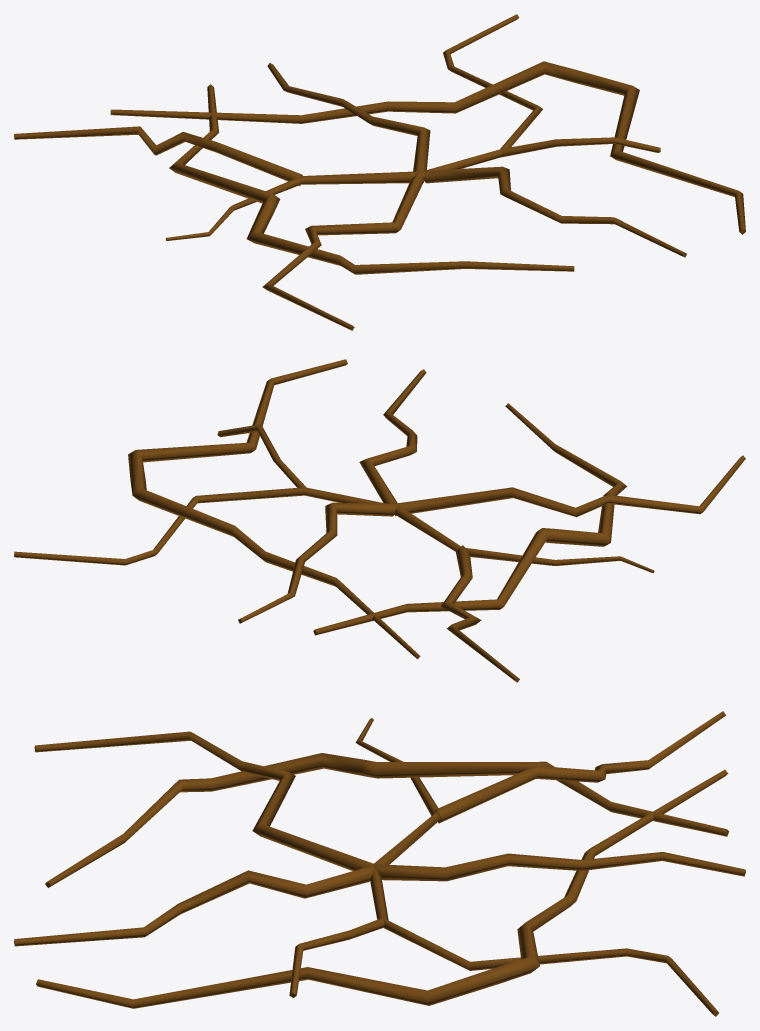
Rendered from Ivy_006.FBX.
3 views of the same model, one above another, from view 1: azimuth 30°, elevation 25°; view 2: azimuth 150°, elevation 25°; view 3: azimuth 270°, elevation 25° (orthographic). The views are drawn at different scales.
Visible parts, largest first — view 1: Ivy_006; view 2: Ivy_006; view 3: Ivy_006.
Boxes of the visible parts, x1=… form: Ivy_006: x1=14, y1=14, x2=745, y2=330; Ivy_006: x1=14, y1=359, x2=745, y2=682; Ivy_006: x1=14, y1=711, x2=745, y2=1016.
Size of the model in its own units: 75.43 by 4.14 by 77.
